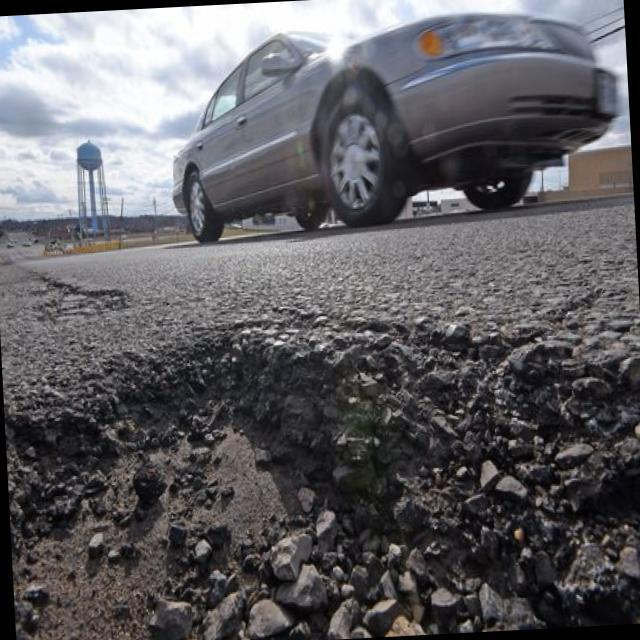Pothole: (2, 297, 640, 640), (32, 269, 148, 324)
